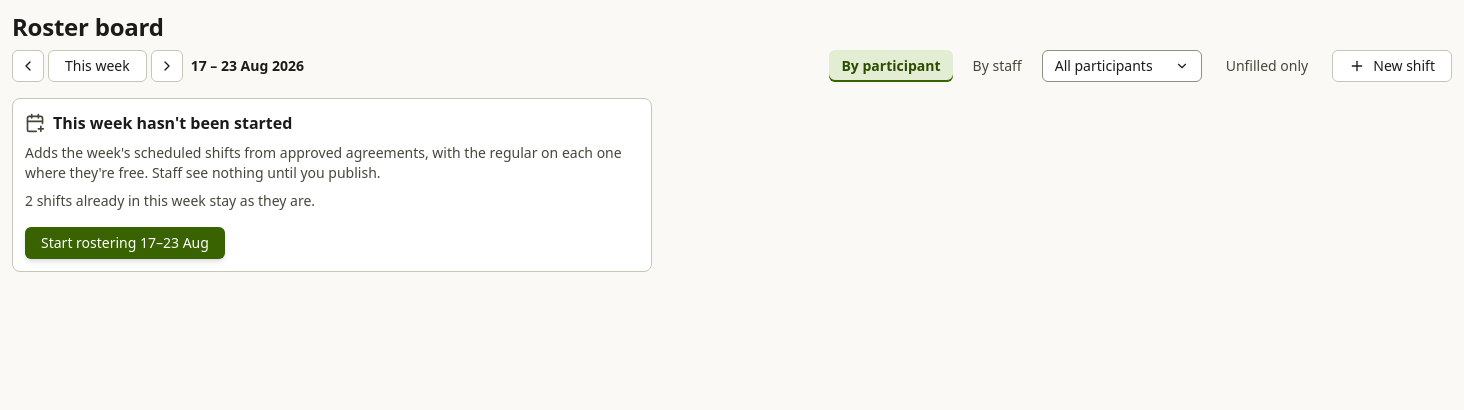
Test: Start rostering › already started by someone else: the info notice, never the error, and focus on it
Click the button "Start rostering 17–23 Aug" at (125, 243), box [25, 227, 225, 259]
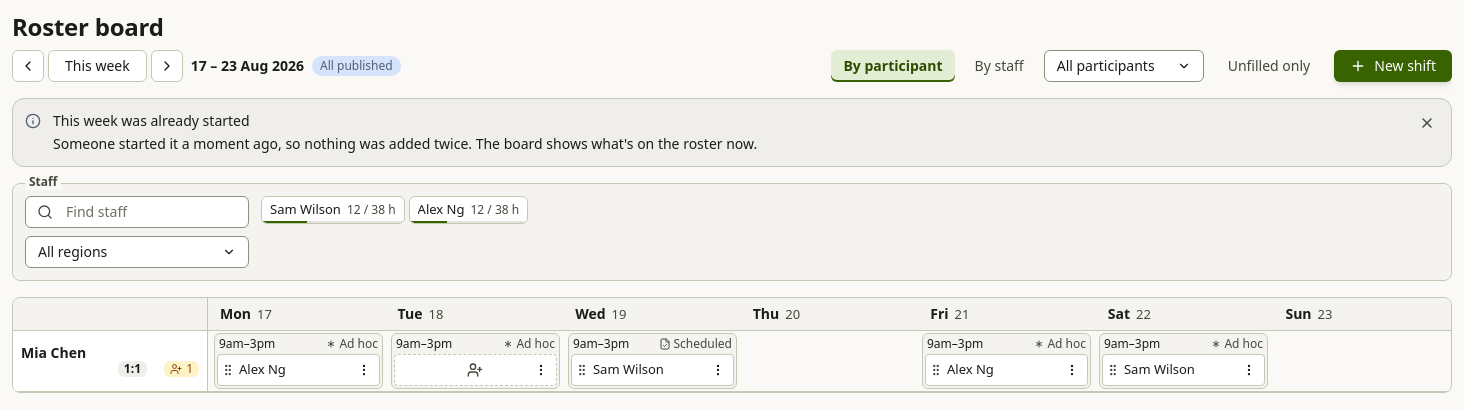
Check: the text "Someone started it a moment ago, so nothing was added twice. The board shows what's on the roster now." is shown, box [53, 134, 757, 153]
